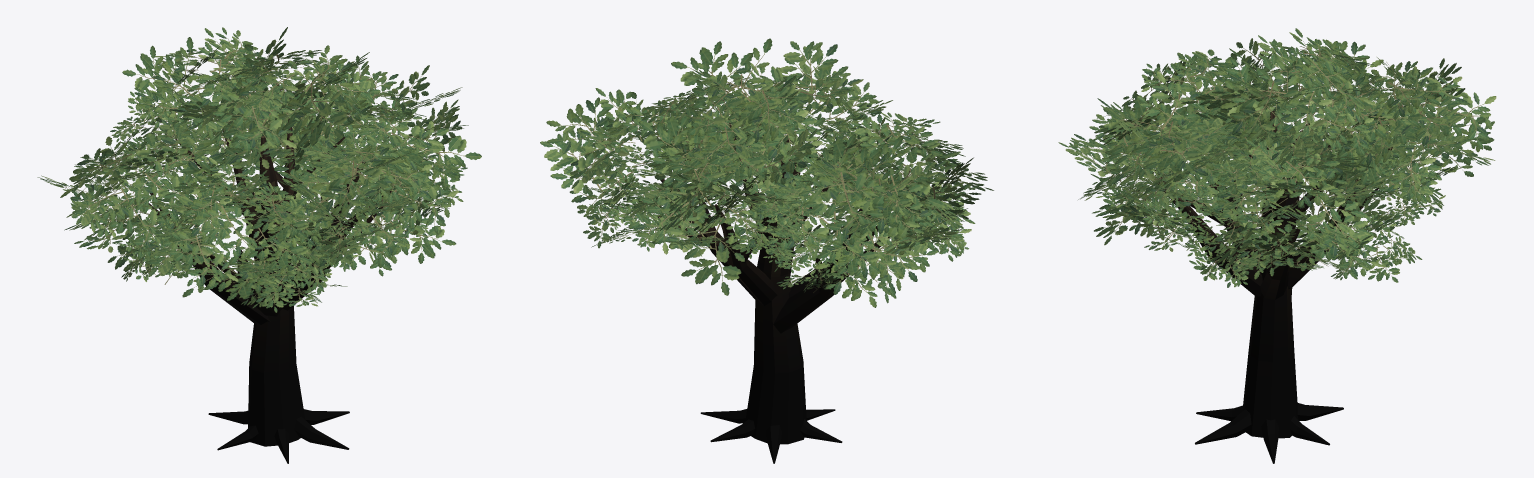
The model's file is Oak_Broadcrown.fbx.
3 views of the same model, side by side, from view 1: azimuth 30°, elevation 25°; view 2: azimuth 150°, elevation 25°; view 3: azimuth 270°, elevation 25° (orthographic). The views are drawn at different scales.
Parts seen in each view (by area): view 1: Oak_Broadcrown_LeafCards, Oak_Broadcrown_Bark; view 2: Oak_Broadcrown_LeafCards, Oak_Broadcrown_Bark; view 3: Oak_Broadcrown_LeafCards, Oak_Broadcrown_Bark.
Boxes of the visible parts, x1,y1,x2,y2 form: Oak_Broadcrown_LeafCards: (37, 27, 481, 312); Oak_Broadcrown_Bark: (148, 118, 394, 463); Oak_Broadcrown_LeafCards: (540, 38, 993, 307); Oak_Broadcrown_Bark: (658, 122, 889, 463); Oak_Broadcrown_LeafCards: (1058, 28, 1496, 287); Oak_Broadcrown_Bark: (1154, 110, 1392, 463).
Bounding box in the file's own units: 9.75 × 8.19 × 8.78.
